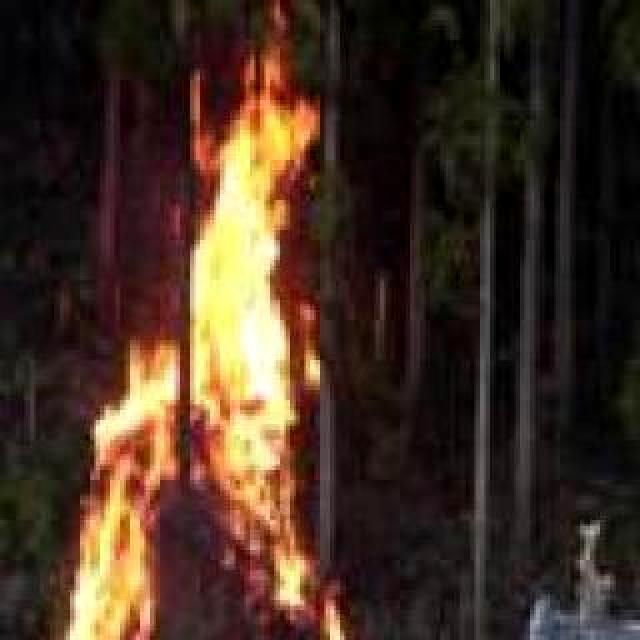fire: (12, 106, 346, 640)
